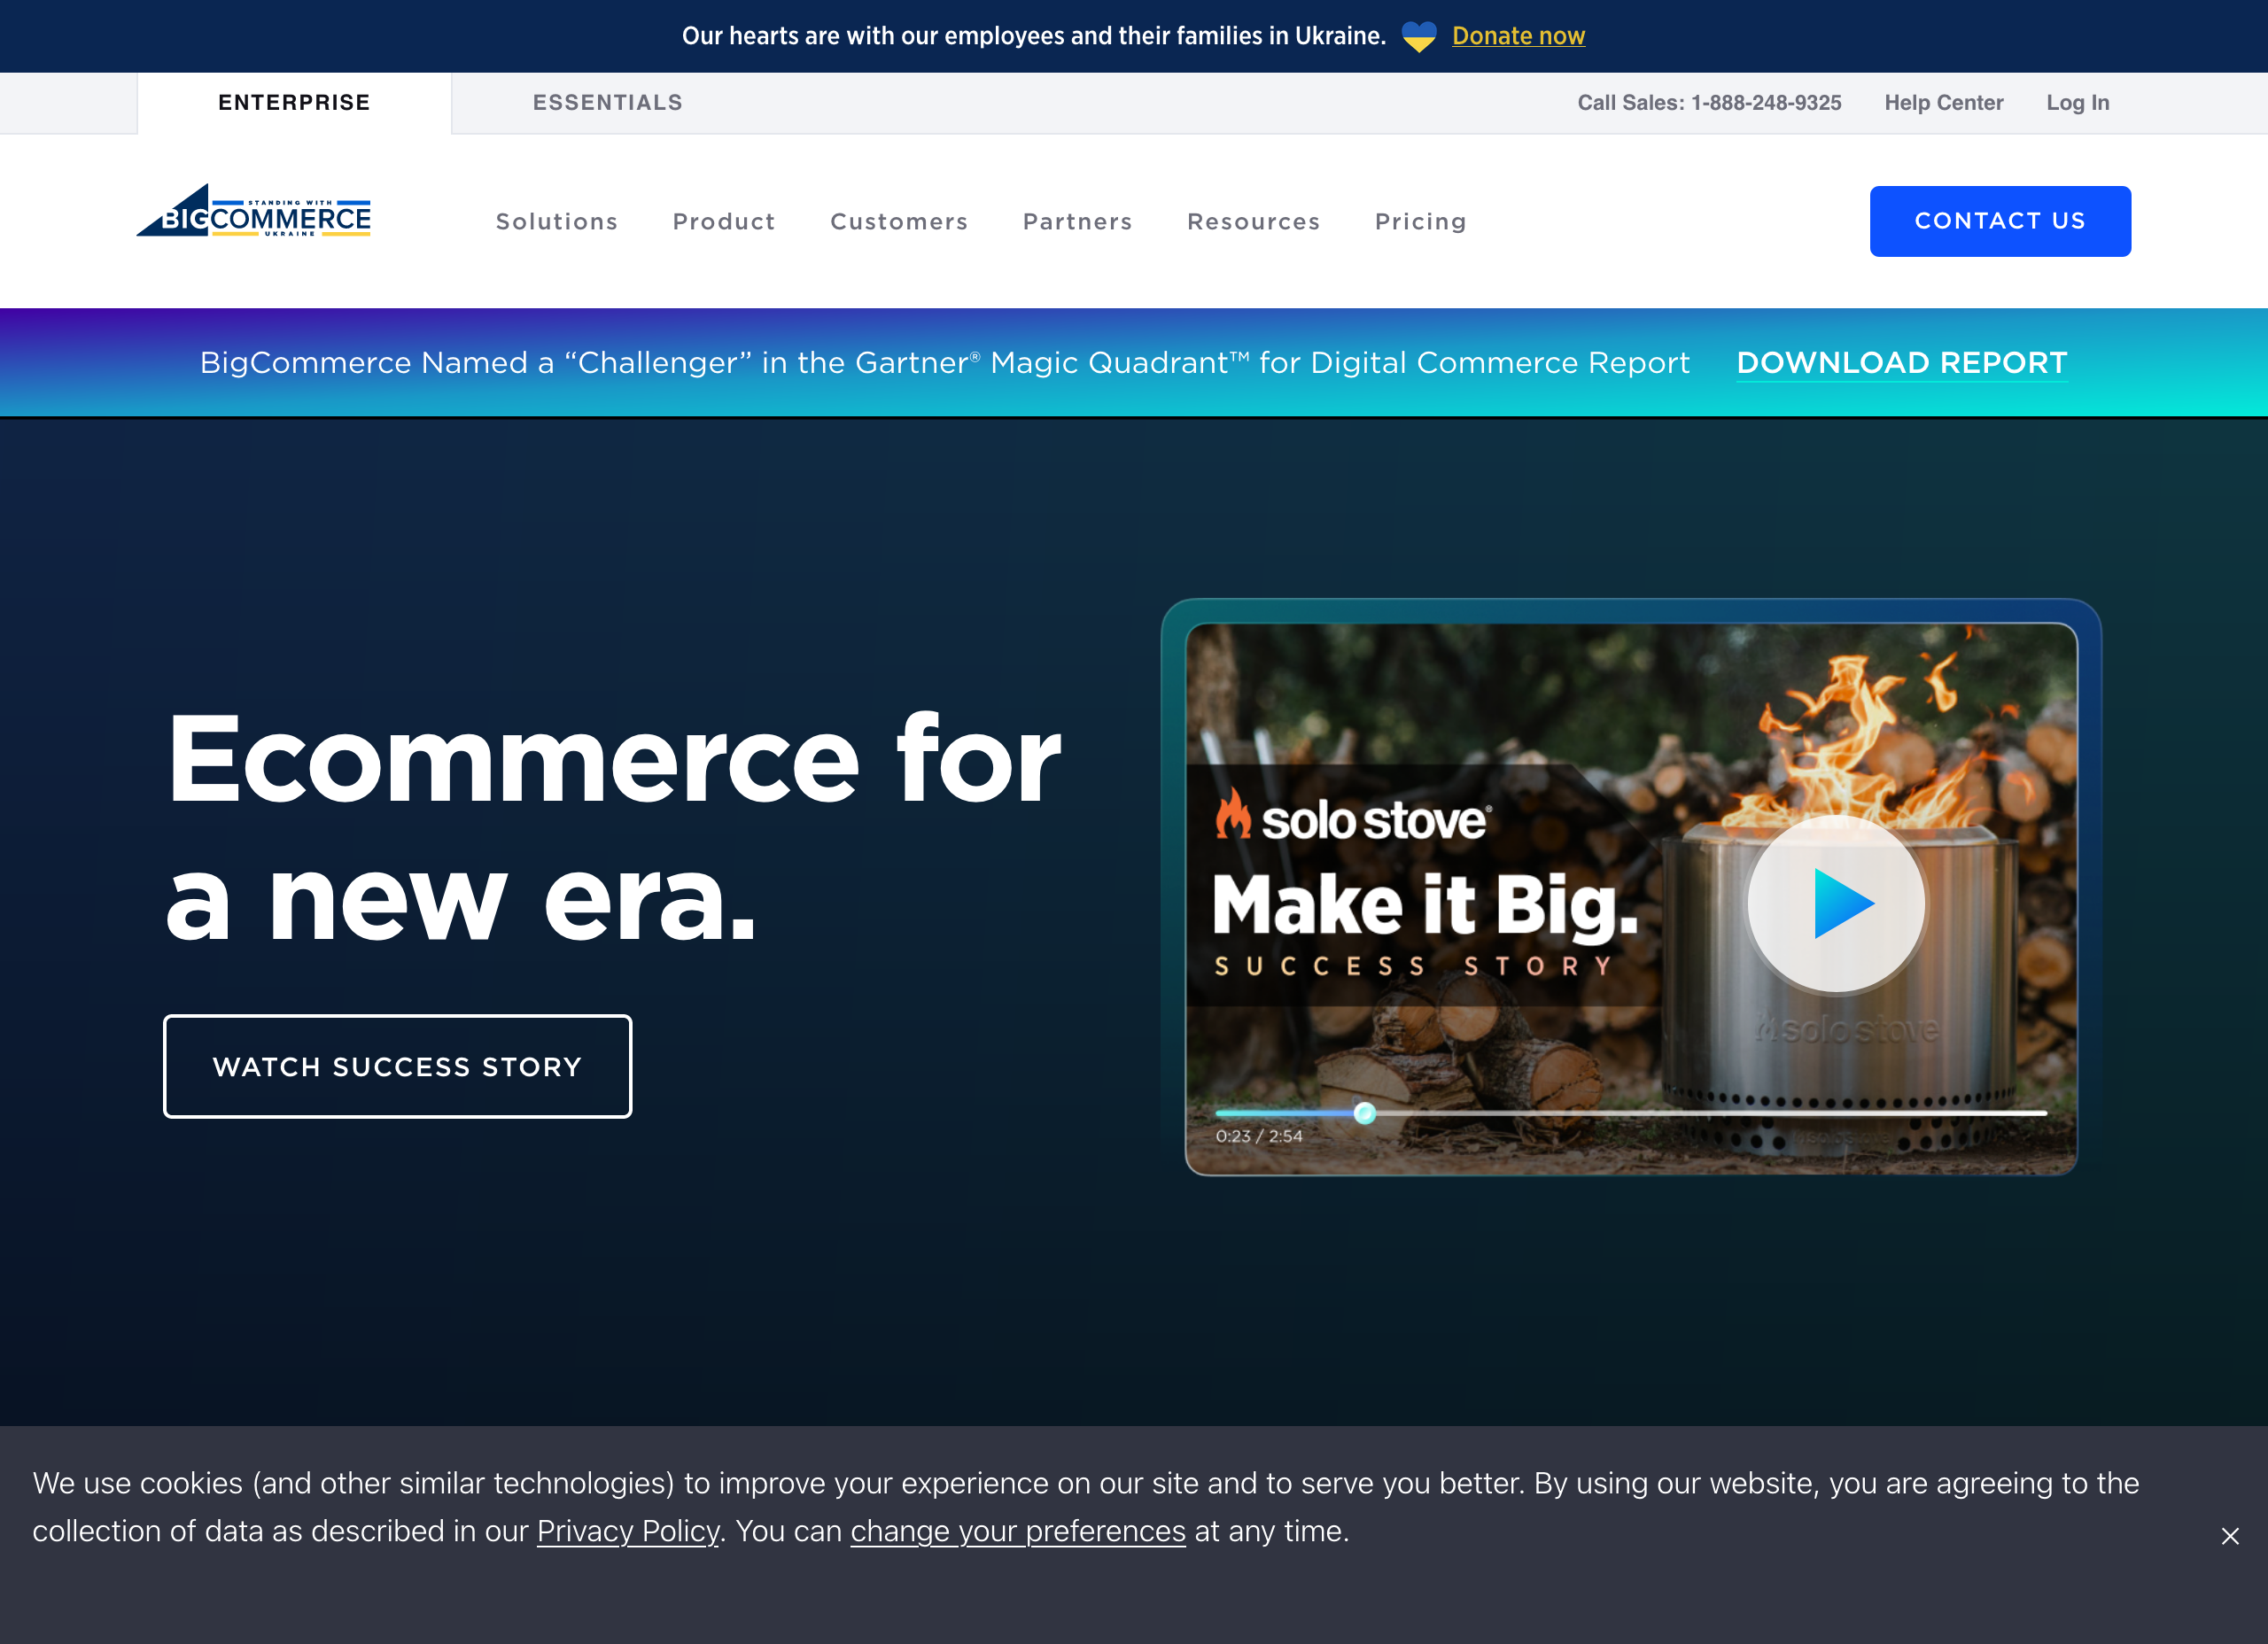Login: (2034, 83, 2118, 121)
